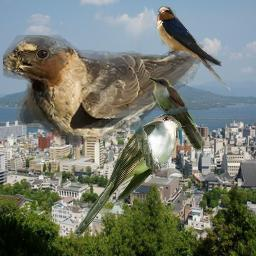Cuckoo: (72, 112, 188, 241), (148, 76, 205, 151)
Swallow: (3, 35, 207, 145), (156, 6, 231, 91)
